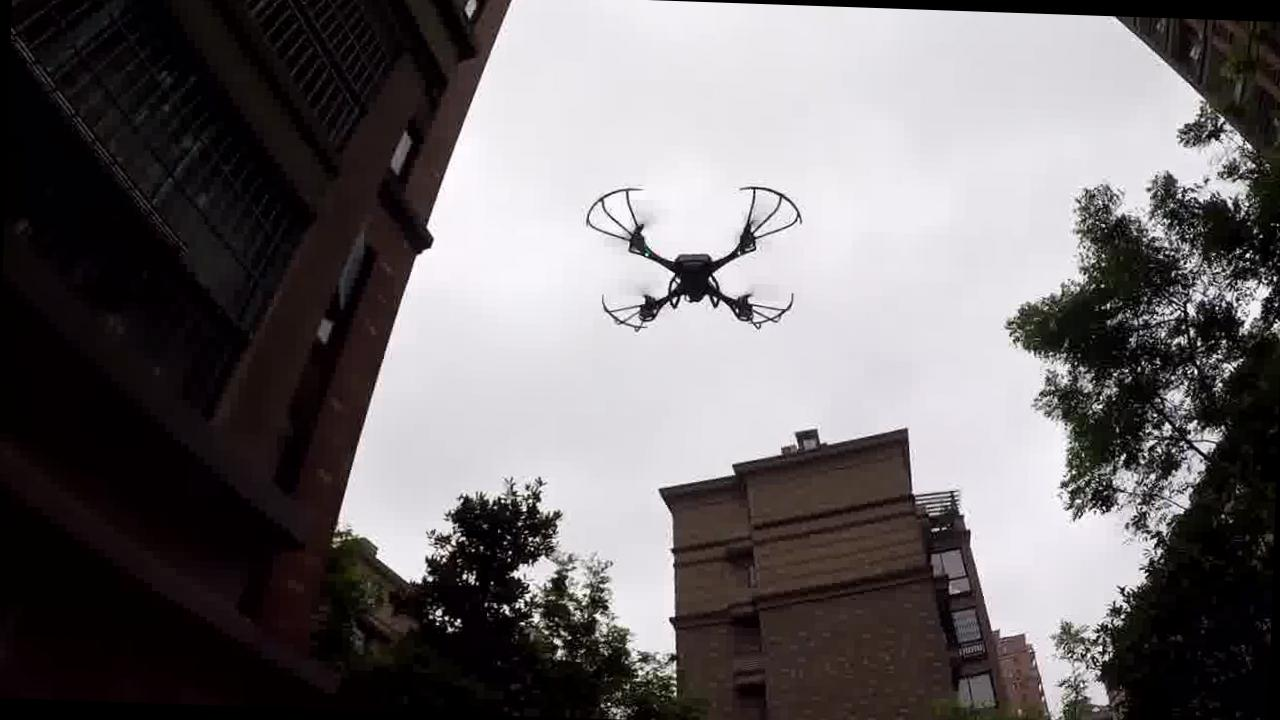drone: (568, 174, 808, 344)
